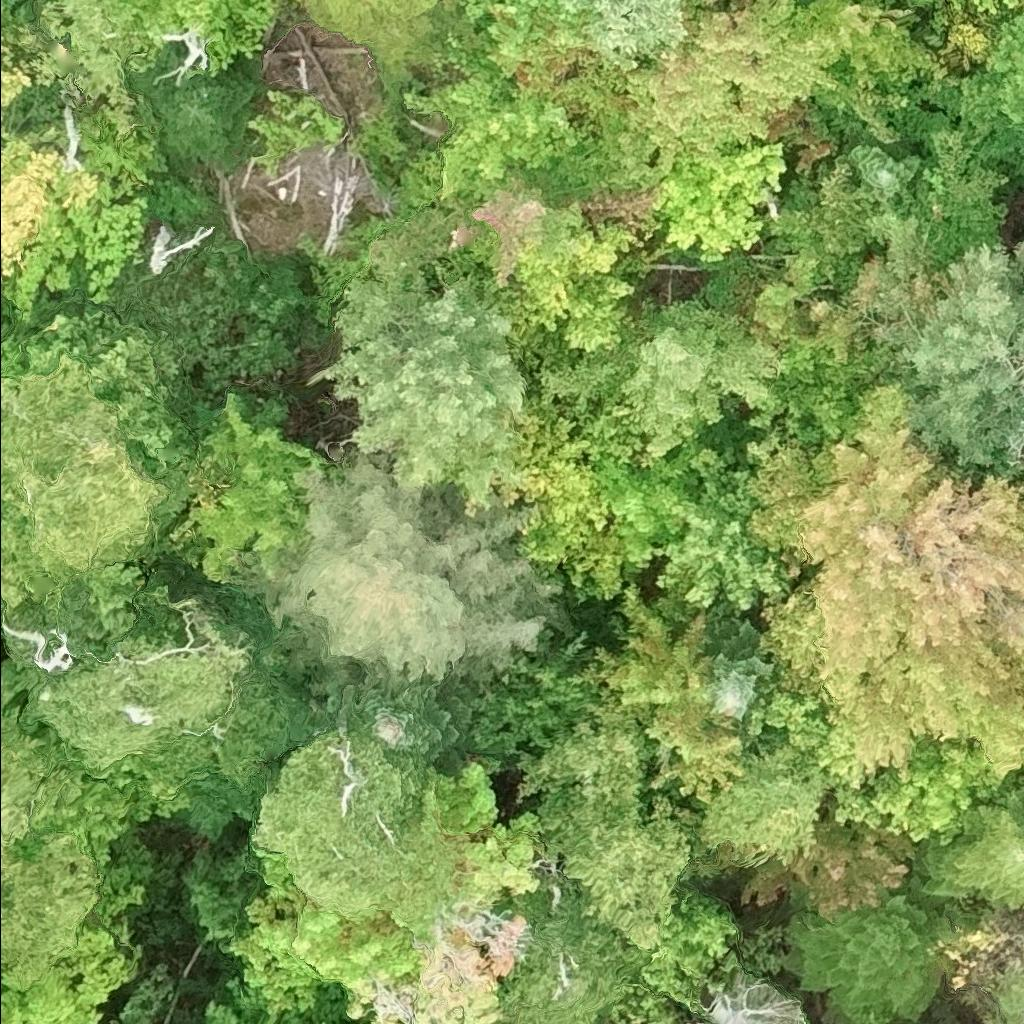crown: (744, 375, 1023, 790), (225, 761, 545, 1023), (258, 453, 575, 701), (548, 0, 957, 191), (306, 232, 530, 513), (849, 213, 1023, 485), (0, 354, 182, 608), (250, 731, 470, 929), (21, 620, 252, 772), (447, 167, 642, 334), (782, 869, 972, 1023), (192, 385, 334, 585), (492, 412, 628, 607), (400, 73, 597, 203), (620, 297, 781, 455), (654, 445, 796, 612), (545, 793, 692, 953), (499, 871, 645, 1023), (514, 685, 658, 837), (736, 804, 917, 924), (4, 184, 150, 324), (825, 739, 1011, 846), (583, 581, 717, 722), (656, 136, 791, 266), (314, 671, 479, 775), (698, 746, 836, 870), (129, 44, 262, 169), (906, 770, 1023, 909), (0, 831, 107, 978), (290, 0, 478, 83), (0, 919, 139, 1023), (637, 889, 737, 1010), (949, 9, 1023, 172), (123, 0, 277, 77), (643, 713, 751, 806), (556, 0, 689, 69), (0, 139, 63, 282), (694, 616, 775, 724), (0, 703, 57, 842), (739, 680, 832, 759), (458, 0, 583, 57), (556, 272, 642, 354), (845, 136, 923, 197), (987, 971, 1023, 1023), (194, 998, 254, 1023), (970, 0, 997, 16), (255, 1014, 278, 1023), (1003, 0, 1023, 9), (950, 0, 963, 9), (310, 1018, 331, 1023), (709, 0, 720, 4), (1022, 483, 1023, 485)
